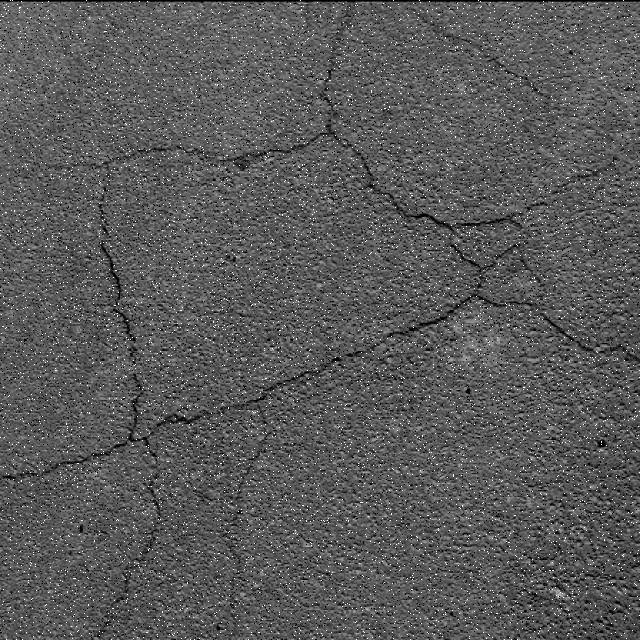Crack: (5, 8, 636, 636), (414, 8, 551, 100)
